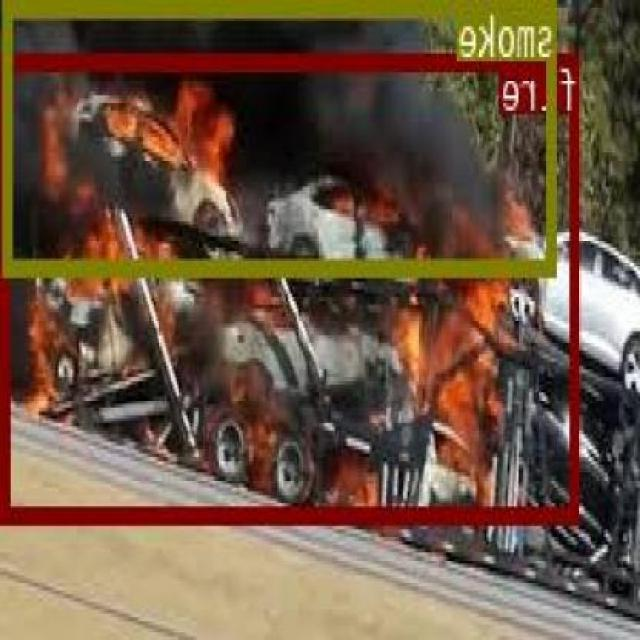Fire: (4, 51, 582, 518)
Smoke: (5, 0, 558, 271)
